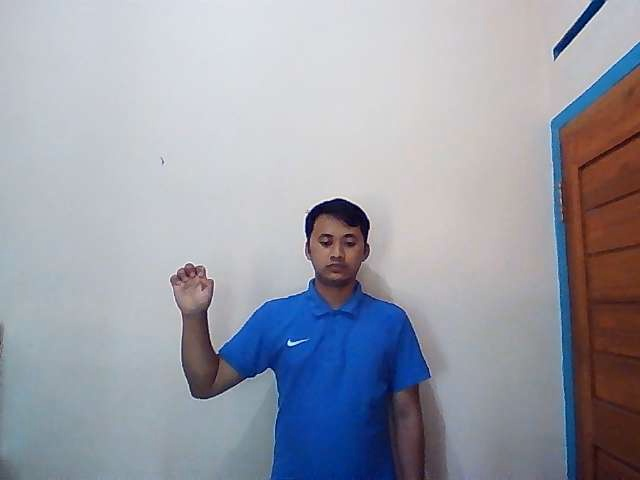E: (168, 263, 216, 312)
